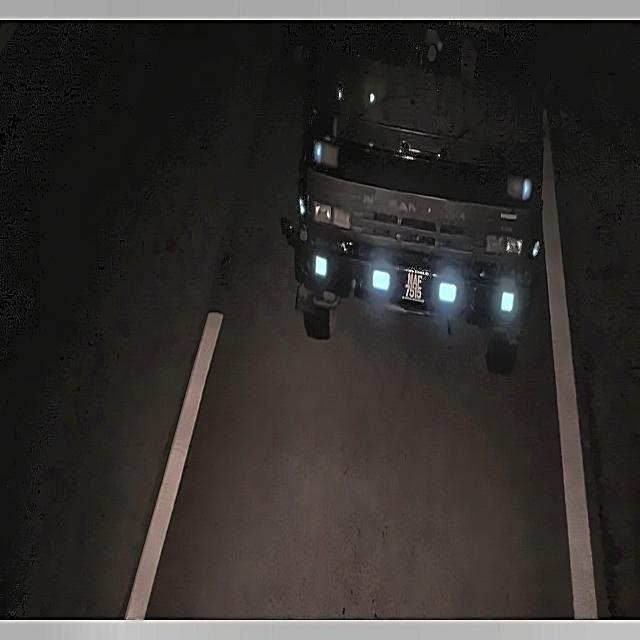car: (389, 259, 440, 314)
